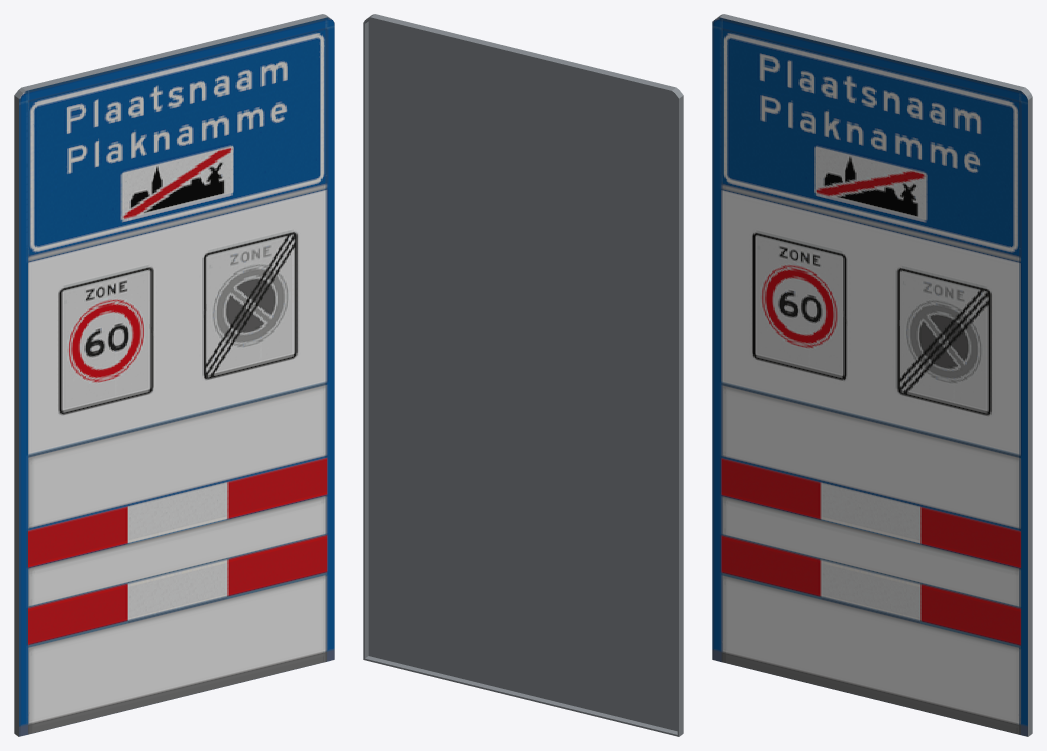
3 views of the same model, side by side, from view 1: azimuth 30°, elevation 25°; view 2: azimuth 150°, elevation 25°; view 3: azimuth 330°, elevation 25° (orthographic).
Parts seen in each view (by area): view 1: cat_ac03b556cb3f5029; view 2: cat_ac03b556cb3f5029; view 3: cat_ac03b556cb3f5029.
Boxes of the visible parts, <box> form: cat_ac03b556cb3f5029: <box>14,14,334,736</box>; cat_ac03b556cb3f5029: <box>363,14,683,736</box>; cat_ac03b556cb3f5029: <box>712,14,1032,736</box>.
Size of the model in its own units: 0.6 by 0.015 by 1.17.
2 materials, 1 textured.
